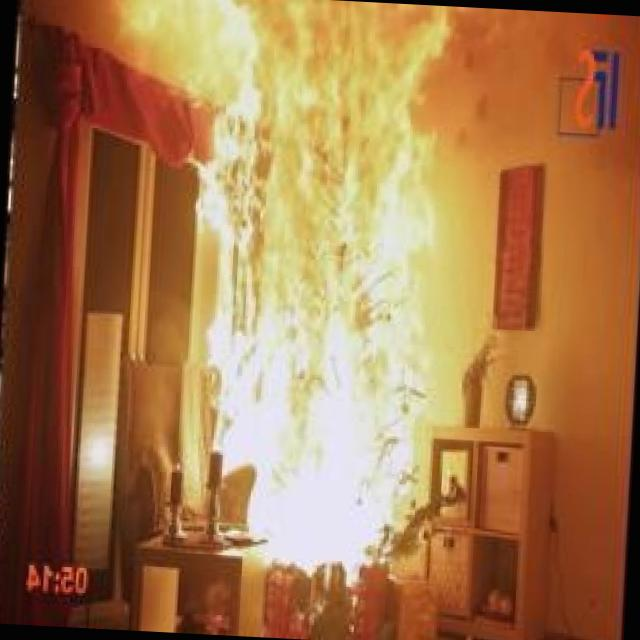fire: (53, 0, 518, 594)
